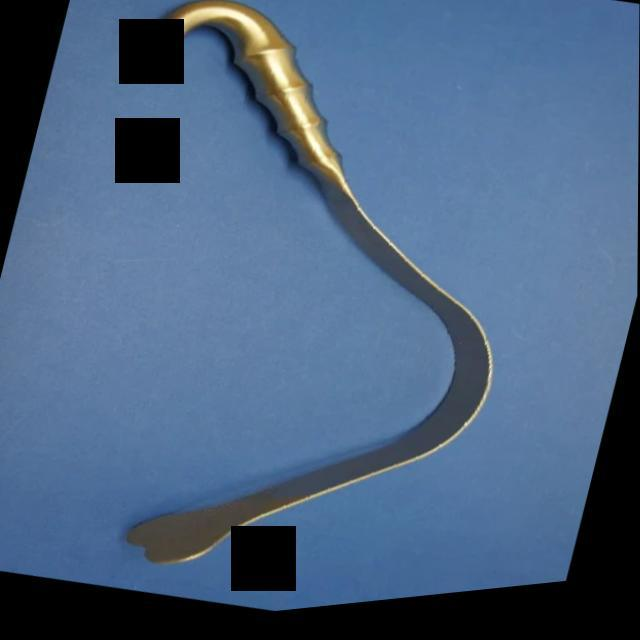Hrrington retractor: (17, 0, 589, 638)
